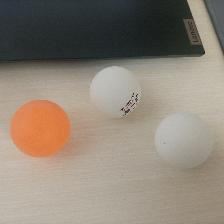WhiteBall: (155, 112, 211, 168), (89, 65, 142, 118)
YellowBall: (9, 98, 70, 157)
